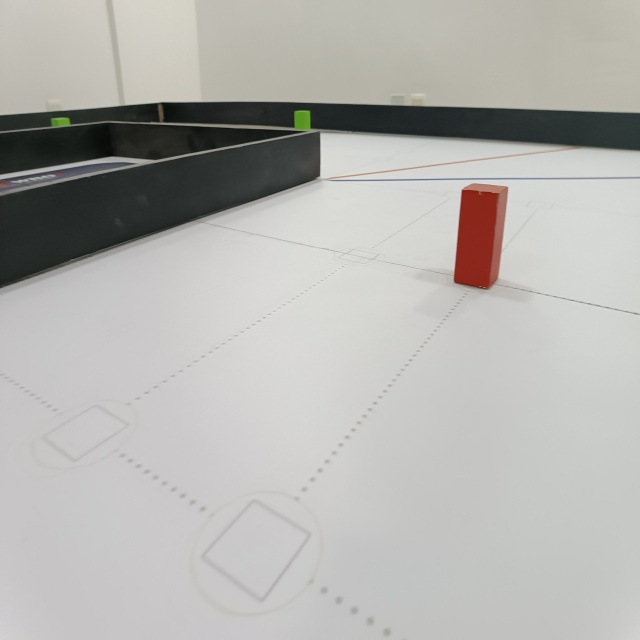blue line: (328, 173, 640, 185)
green rectangular prism: (292, 109, 313, 128)
orange line: (325, 146, 577, 176)
red rectangular prism: (451, 181, 510, 292)
